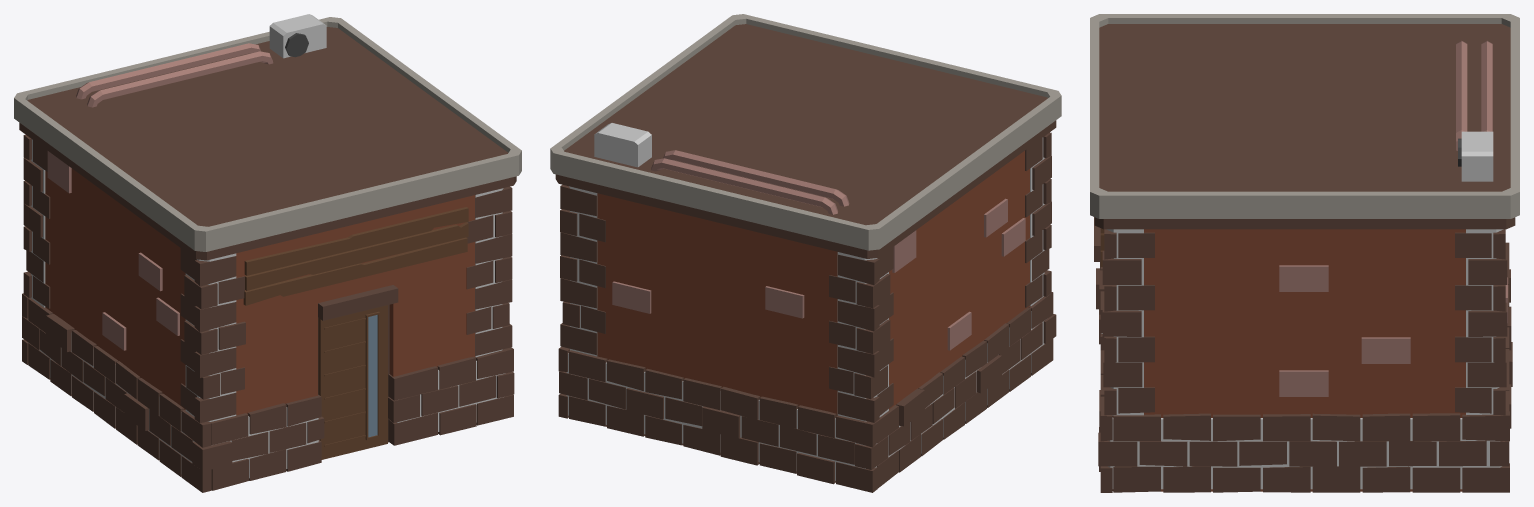
File: 1StoryB.glb
3 renders of one model, left to right at view 1: azimuth 30°, elevation 25°; view 2: azimuth 150°, elevation 25°; view 3: azimuth 270°, elevation 25°, orthographic. The views are drawn at different scales.
Visible parts, largest first — view 1: 1Story_Sign; view 2: 1Story_Sign; view 3: 1Story_Sign.
Part boxes in pixels (x1,y1,x2,y2): 1Story_Sign: (14,14,521,492); 1Story_Sign: (550,14,1061,492); 1Story_Sign: (1090,14,1519,492).
Size of the model in its own units: 2.15 by 1.79 by 2.15.
1 material, 1 textured.
